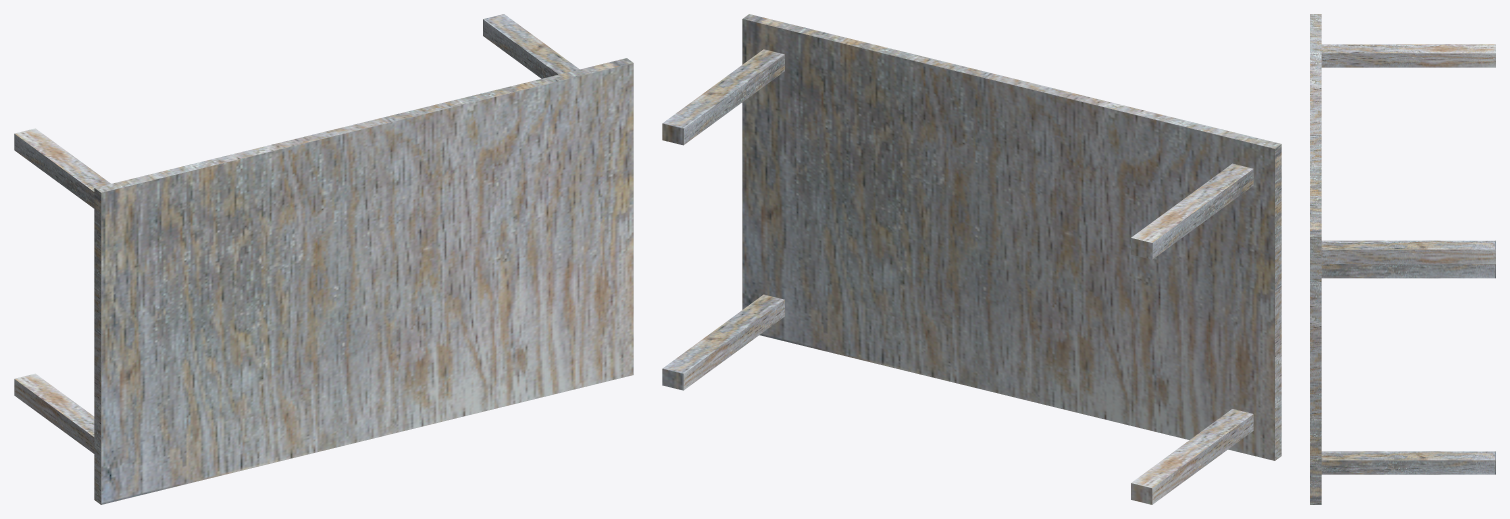
The model's file is table52_wtf.obj.
The picture shows the model from 3 angles, left to right: view 1: azimuth 30°, elevation 25°; view 2: azimuth 150°, elevation 25°; view 3: azimuth 270°, elevation 25°; orthographic projection. The views are drawn at different scales.
Parts seen in each view (by area): view 1: group2; view 2: group2; view 3: group2.
Part boxes in pixels (<box>): group2: <box>14,14,633,504</box>; group2: <box>662,14,1281,504</box>; group2: <box>1310,14,1495,504</box>.
Bounding box in the file's own units: 660 × 370 × 232.
